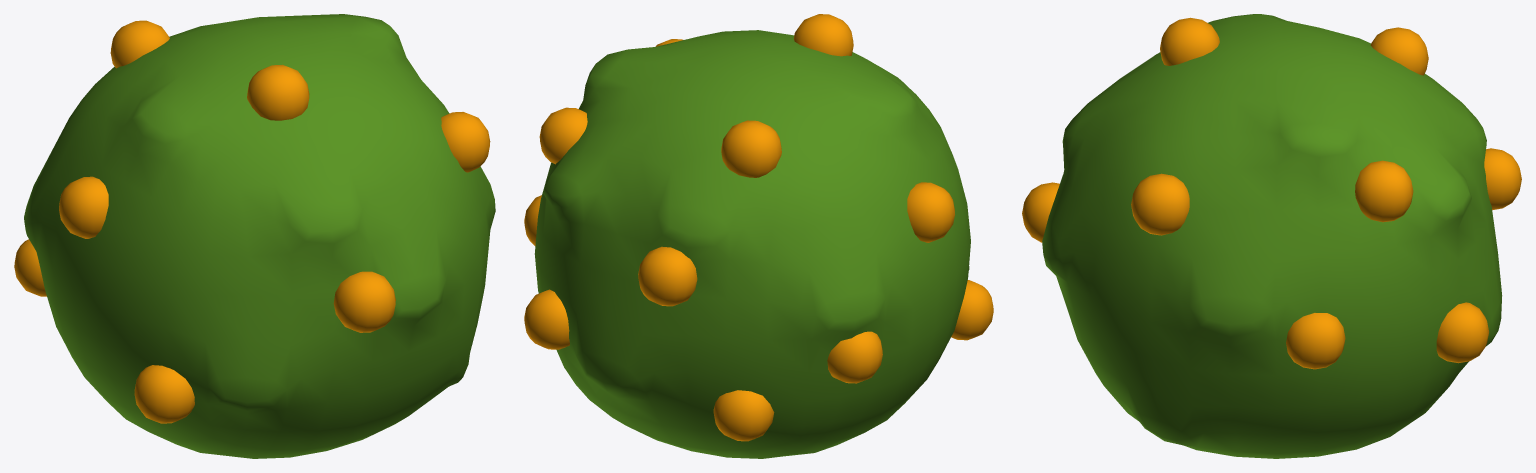
Rendered from prop10.fbx.
3 renders of one model, left to right at view 1: azimuth 30°, elevation 25°; view 2: azimuth 150°, elevation 25°; view 3: azimuth 270°, elevation 25°, orthographic. The views are drawn at different scales.
Parts seen in each view (by area): view 1: Cube.016; view 2: Cube.016; view 3: Cube.016.
Part boxes in pixels (x1,y1,x2,y2): Cube.016: [14, 14, 495, 458]; Cube.016: [524, 14, 993, 458]; Cube.016: [1022, 14, 1521, 458].
Bounding box in the file's own units: 1.67 × 1.77 × 1.49.
